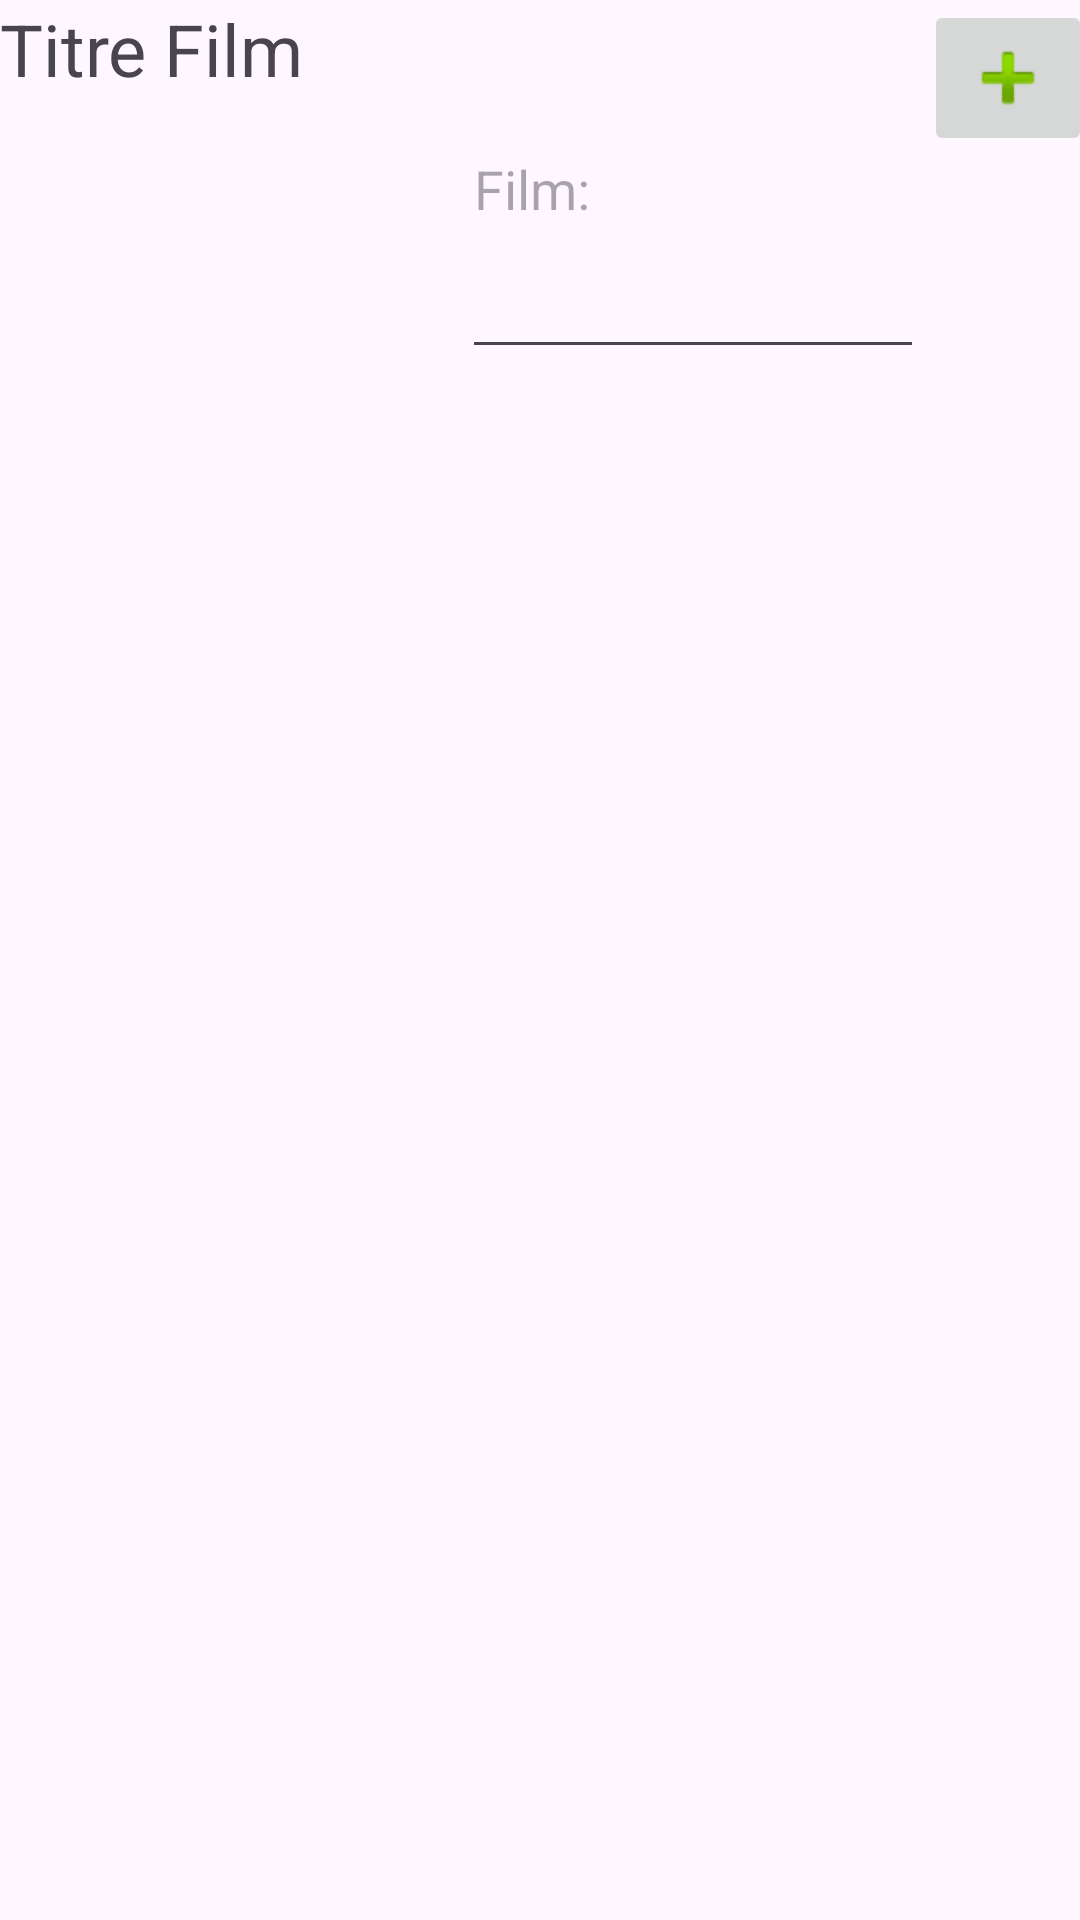

Point at icon controls on the screen. Image size 1080 x 1920, points as (x=x, y=y).
add: (x=1008, y=78)
